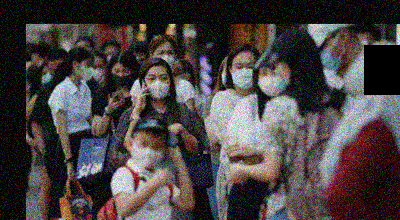with_mask: (316, 34, 342, 72), (131, 139, 163, 168), (256, 67, 282, 96), (142, 72, 169, 99), (230, 60, 254, 88), (151, 48, 175, 69), (109, 66, 131, 86), (75, 61, 91, 80), (90, 63, 105, 80), (39, 70, 51, 84)
